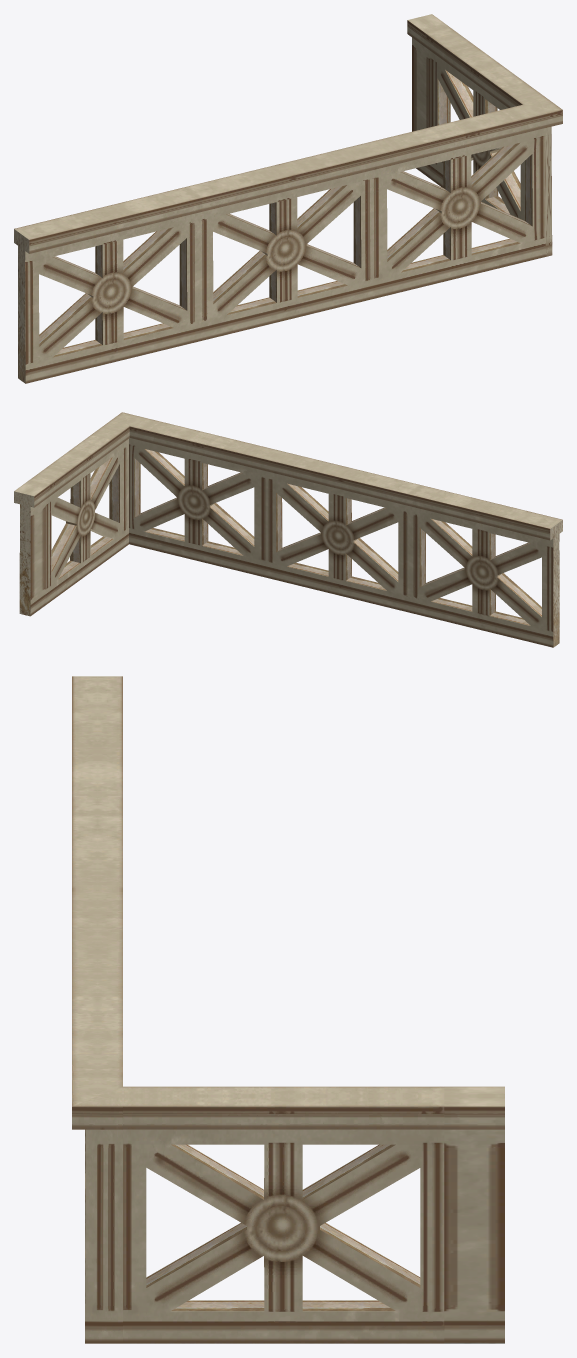
Rendered from svspartarail4.dae.
3 renders of one model, top to bottom at view 1: azimuth 30°, elevation 25°; view 2: azimuth 150°, elevation 25°; view 3: azimuth 270°, elevation 25°, orthographic. The views are drawn at different scales.
Visible parts, largest first — view 1: unnamed_object6_sep34-0; view 2: unnamed_object6_sep34-0; view 3: unnamed_object6_sep34-0.
Boxes of the visible parts, box(x1,y1,x2,y2) form: unnamed_object6_sep34-0: box(14, 14, 562, 383); unnamed_object6_sep34-0: box(14, 412, 562, 647); unnamed_object6_sep34-0: box(72, 676, 504, 1343).
Size of the model in its own units: 400 by 105 by 170.
